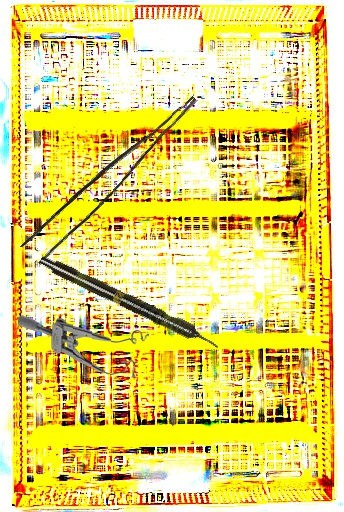Handpiece: (36, 251, 223, 355)
Speculum: (15, 314, 150, 379)
Tissue Forceps: (20, 77, 198, 270)
